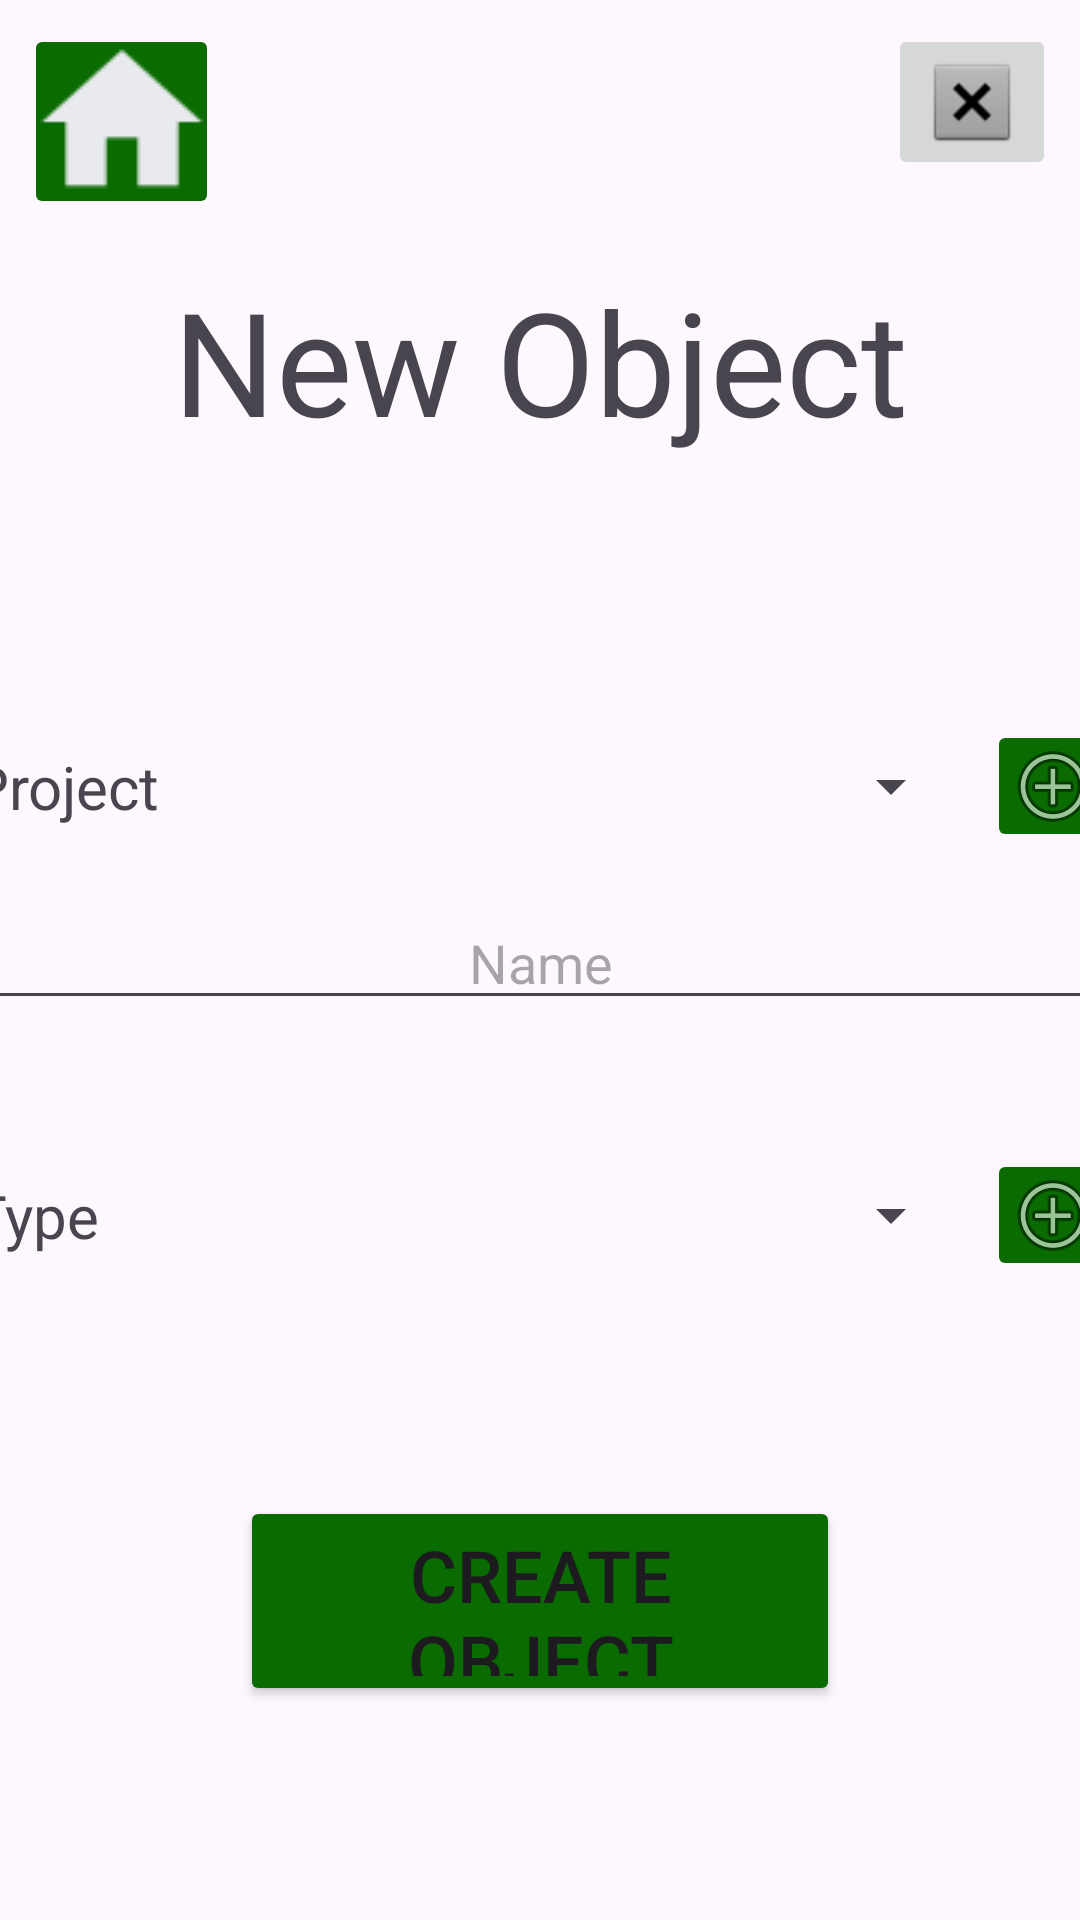

Where icons sit on this 1080px×1920px app screen, as [left=x1, top=y1, right=x2, bottom=y2]:
homebtn: [left=36, top=42, right=207, bottom=201]
